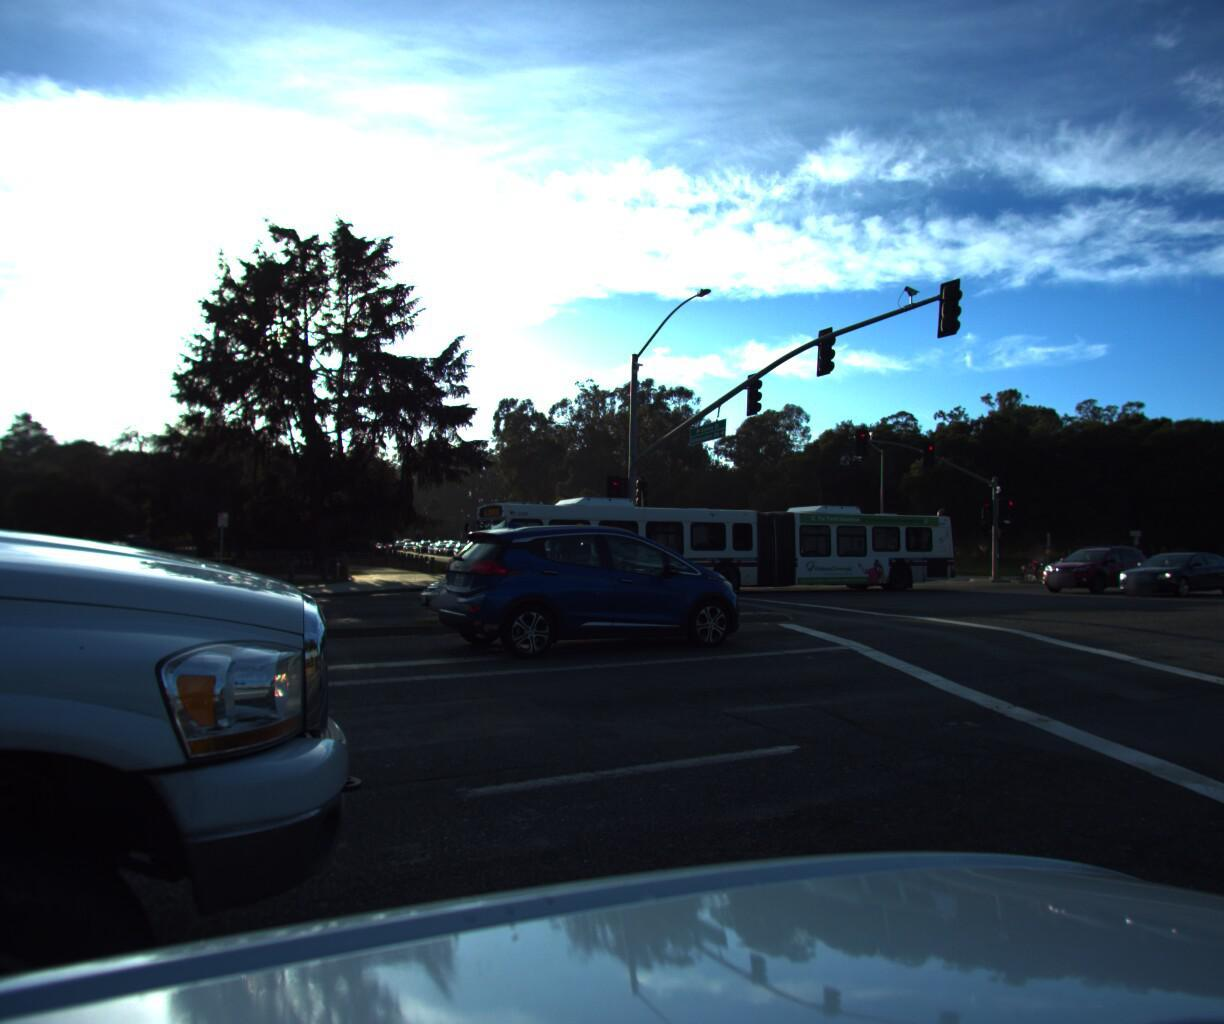bus: (473, 486, 782, 597), (719, 503, 956, 590), (0, 347, 9, 725)
car: (0, 461, 350, 723), (421, 489, 820, 667), (1103, 546, 1224, 597), (1031, 543, 1151, 593), (1211, 538, 1224, 581)
